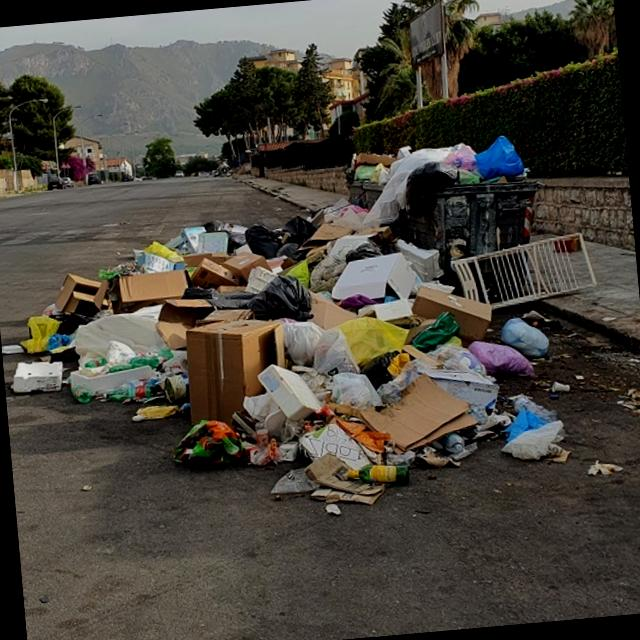garbage: (0, 125, 616, 537)
